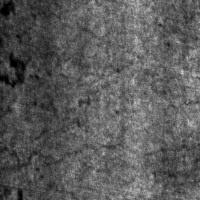crazing: (0, 93, 126, 171)
